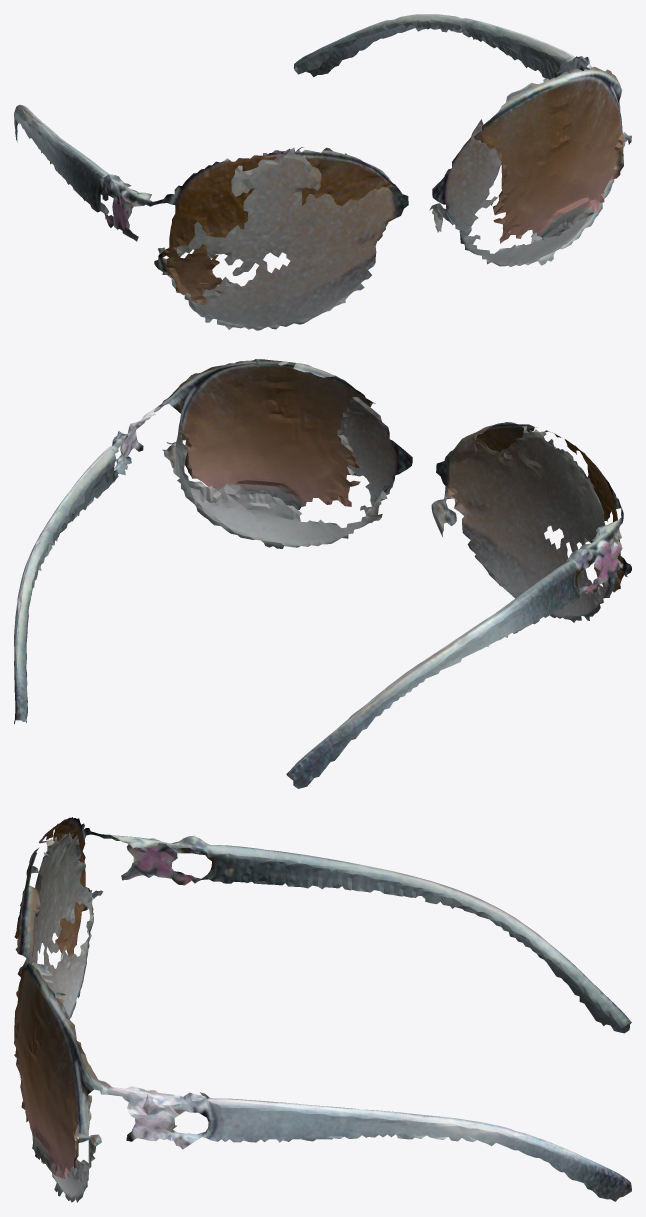
File: scan_align.obj
The picture shows the model from 3 angles, top to bottom: view 1: azimuth 30°, elevation 25°; view 2: azimuth 150°, elevation 25°; view 3: azimuth 270°, elevation 25°; orthographic projection. The views are drawn at different scales.
Size of the model in its own units: 0.1512 by 0.0546 by 0.1452.
Materials: 1 (1 with a texture image).
